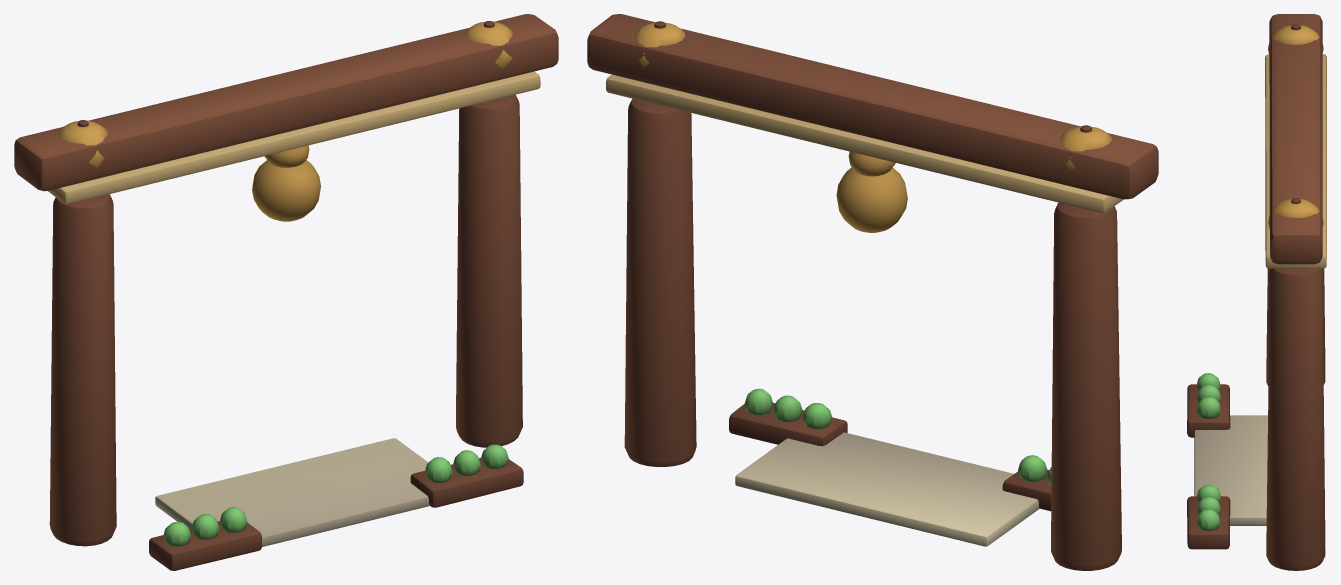
3 views of the same model, side by side, from view 1: azimuth 30°, elevation 25°; view 2: azimuth 150°, elevation 25°; view 3: azimuth 270°, elevation 25° (orthographic). The views are drawn at different scales.
Visible parts, largest first — view 1: gate_6b4763ca; view 2: gate_6b4763ca; view 3: gate_6b4763ca.
Boxes of the visible parts, x1,y1,x2,y2 form: gate_6b4763ca: [14, 14, 558, 570]; gate_6b4763ca: [587, 14, 1158, 570]; gate_6b4763ca: [1187, 14, 1326, 570].
Size of the model in its own units: 5.2 by 3.94 by 1.37.
